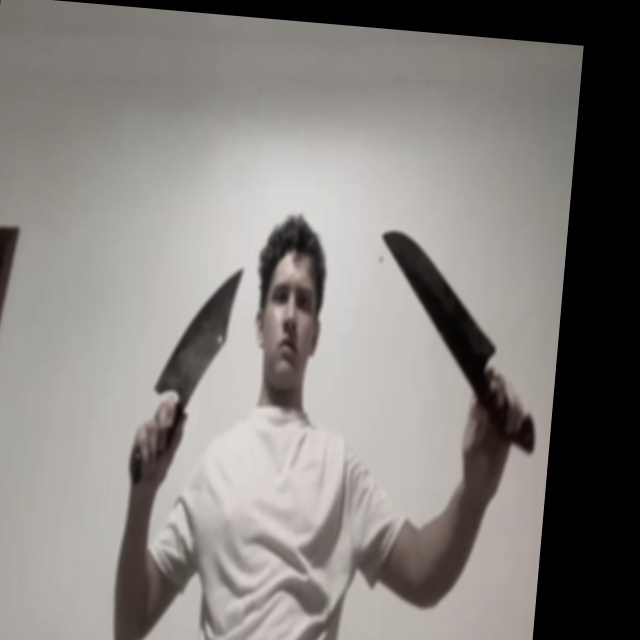Sharp-Object: (373, 229, 506, 356), (153, 259, 244, 402)
